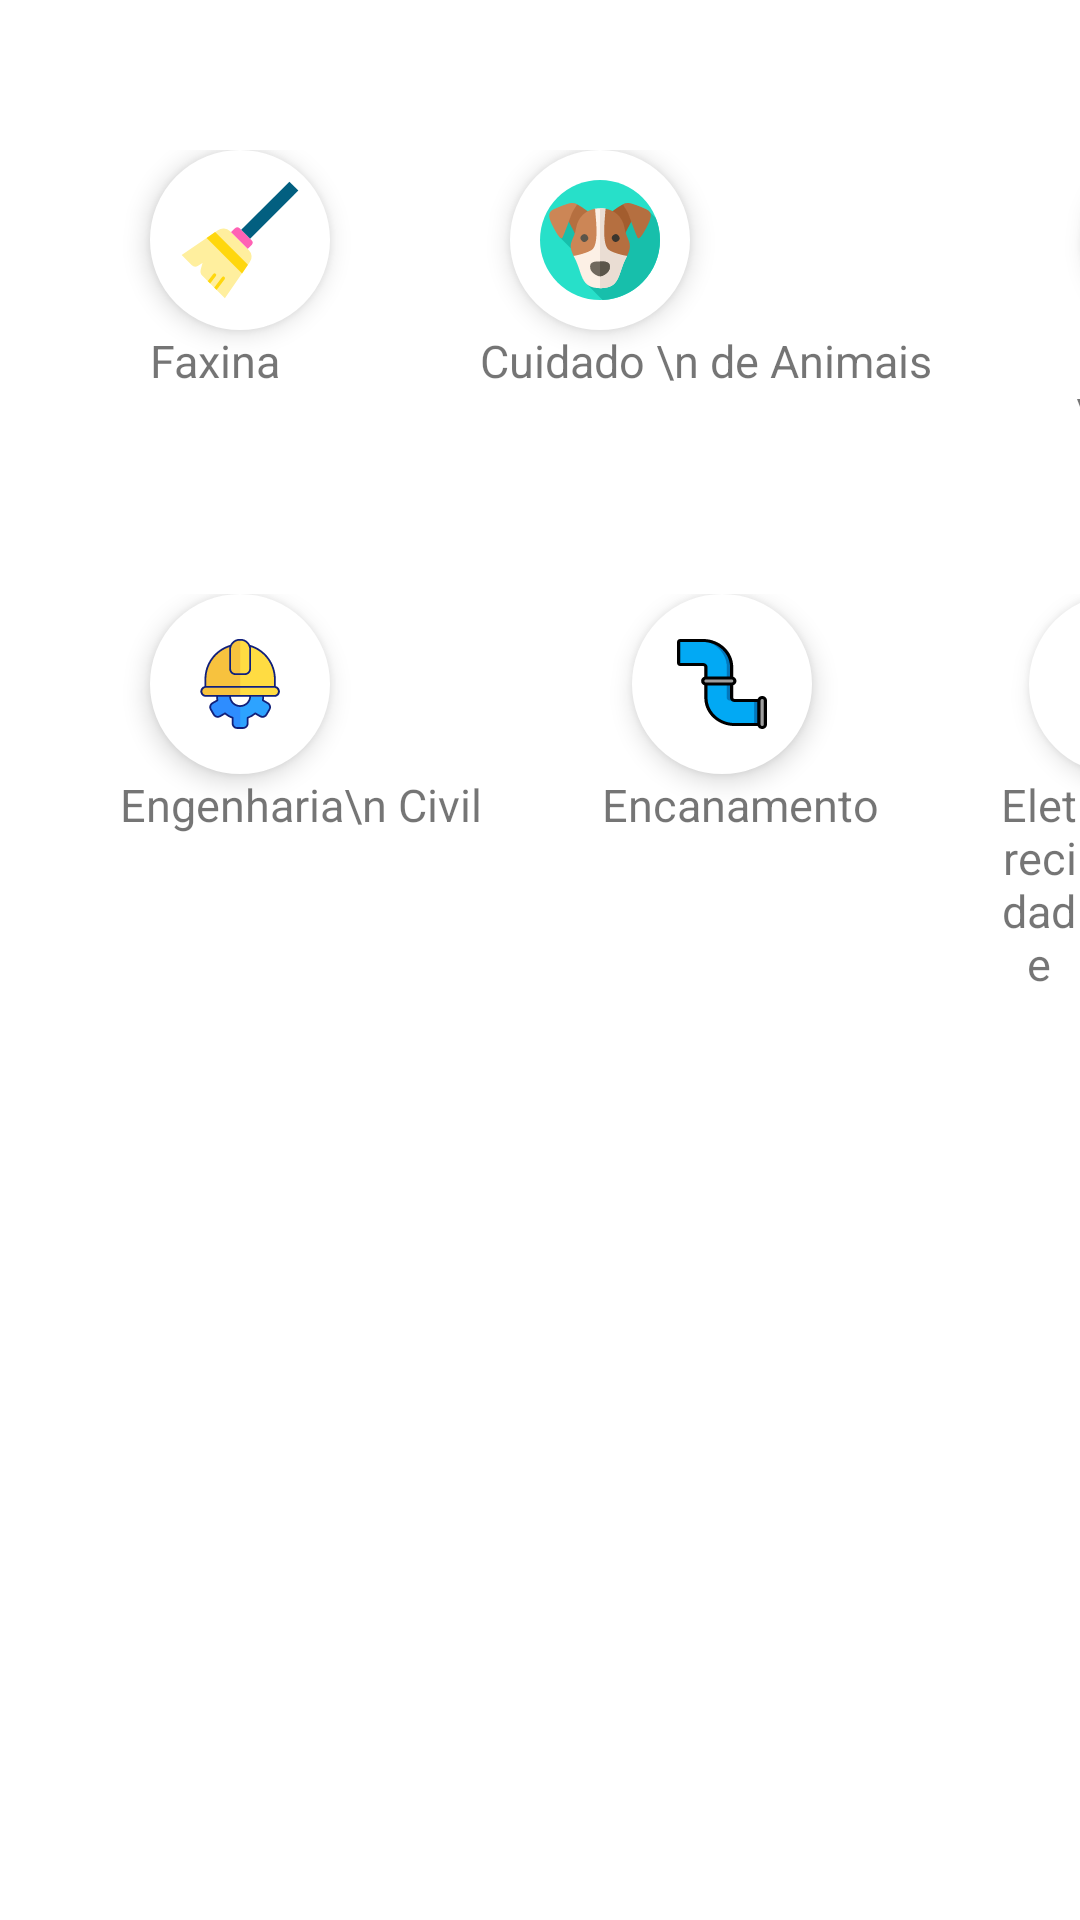

Screen size 1080 × 1920. Icon name, then its center in pixels as (x=x, y=y):
cachorro: (x=610, y=255)
vassoura: (x=224, y=256)
